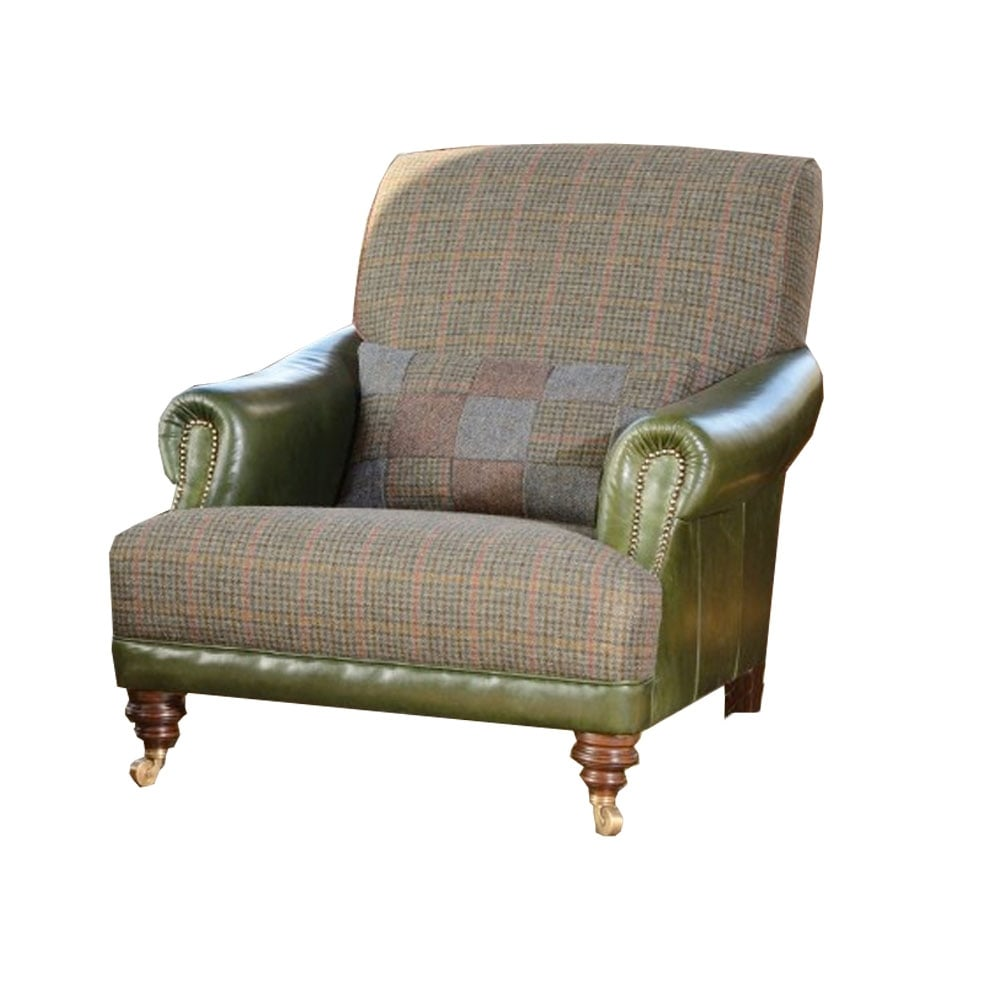chairs: (88, 137, 829, 839)
